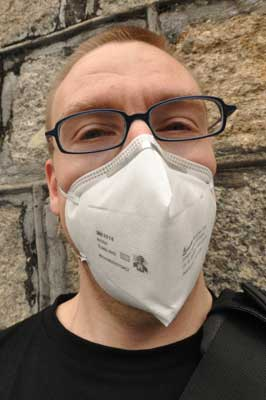n95: (55, 135, 224, 326)
